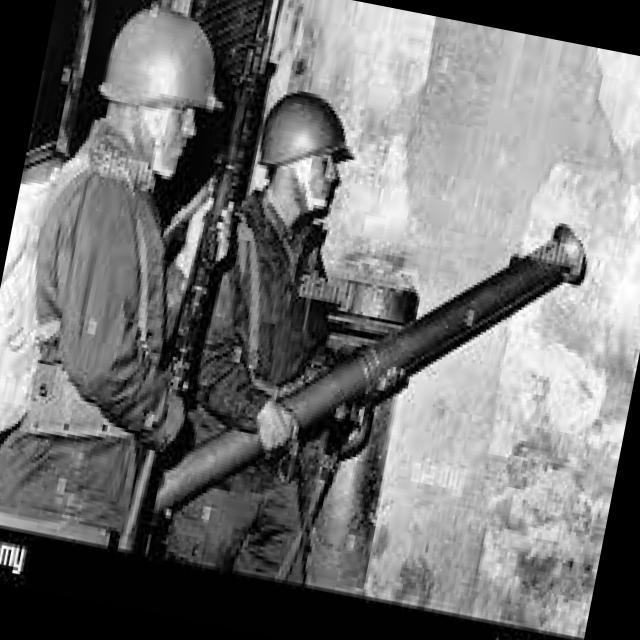rocket: (141, 152, 594, 594)
